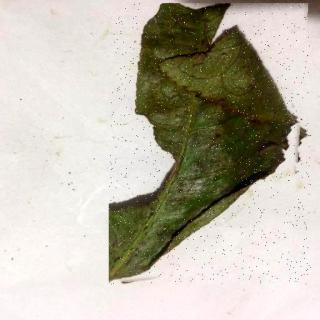Red Leaf Spot: (111, 5, 313, 286)
